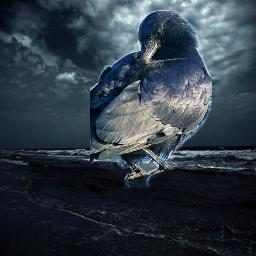Crow: (90, 10, 212, 188)
